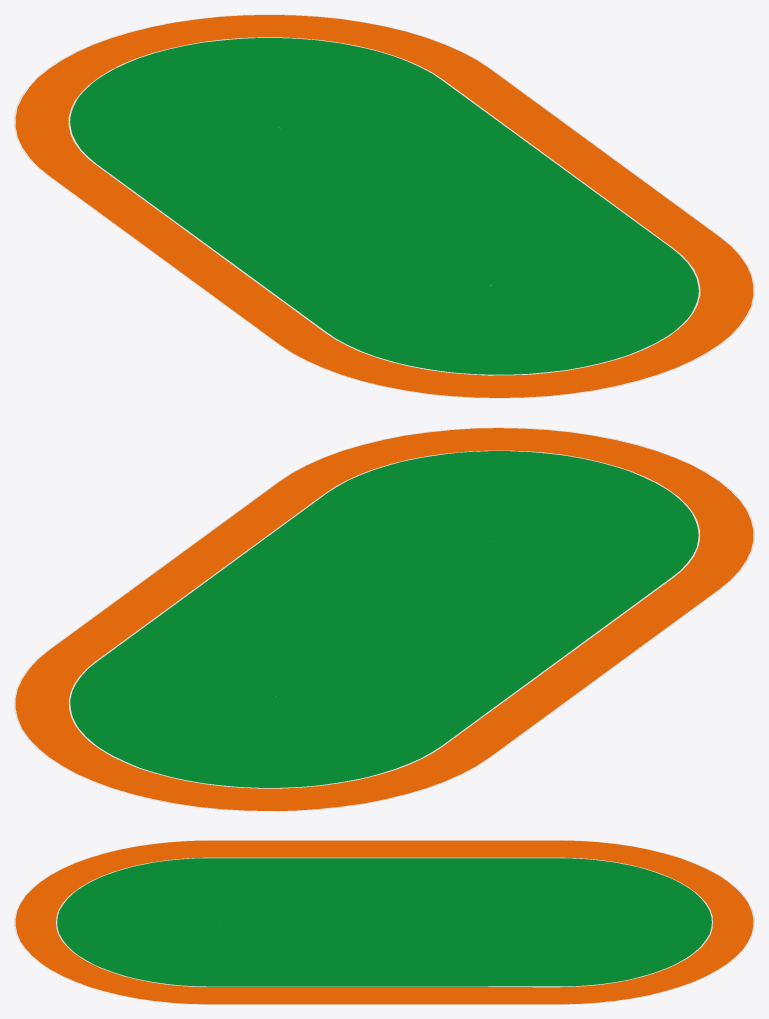
Rendered from san-van-dong.glb.
3 views of the same model, one above another, from view 1: azimuth 30°, elevation 25°; view 2: azimuth 150°, elevation 25°; view 3: azimuth 270°, elevation 25° (orthographic). The views are drawn at different scales.
Size of the model in its own units: 93.74 by 0.04 by 178.
